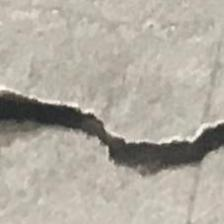Crack: (0, 67, 224, 210)
